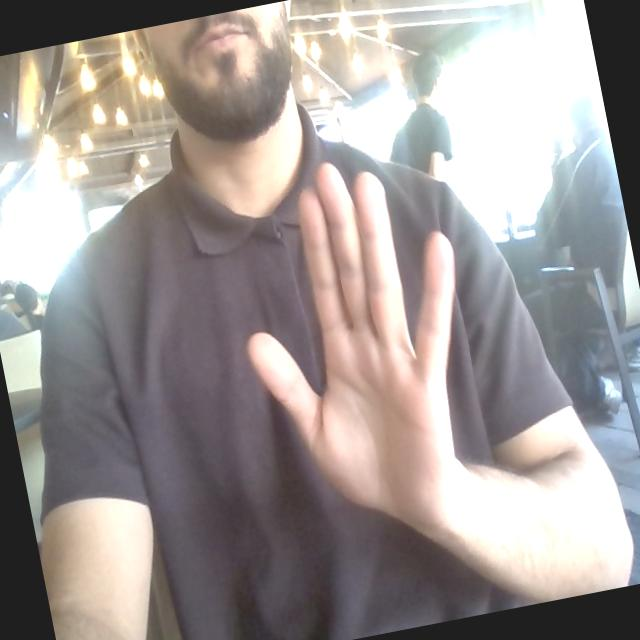Hand: (248, 164, 463, 530)
